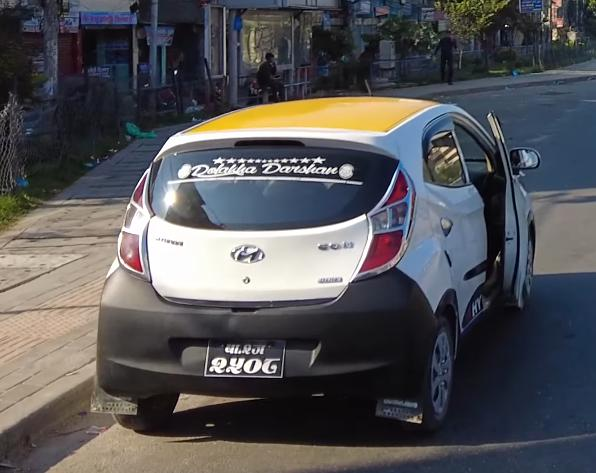taxi: (77, 79, 538, 443)
